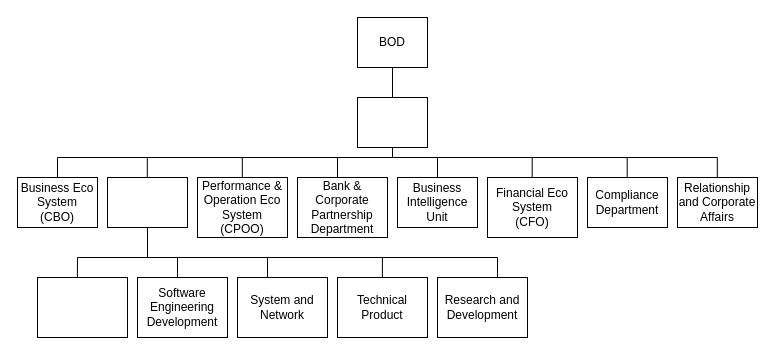
Image size: 775x355. Some labels were removed from this diagram. The box of each missing label's shape, as (x1, y1, x2, y2) in pixels:
CEO: (356, 96, 428, 148)
Product Operations and QA: (36, 276, 128, 338)
Technology Eco System (CTO): (106, 176, 188, 228)
